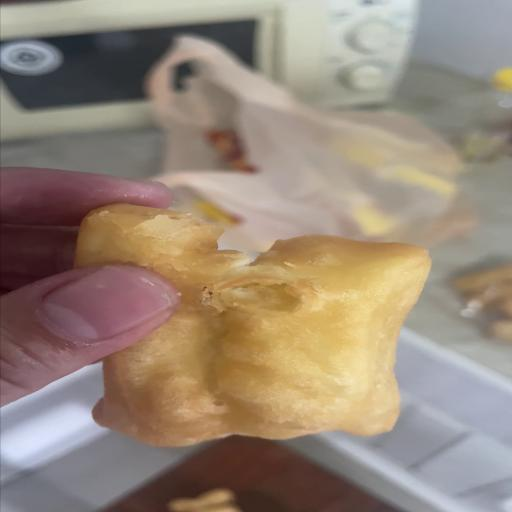street_golden_defect: (78, 201, 430, 447)
